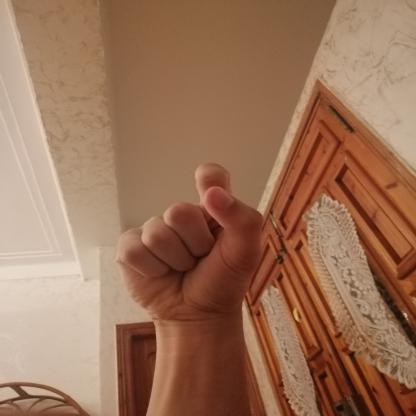FAA: (100, 152, 275, 336)
